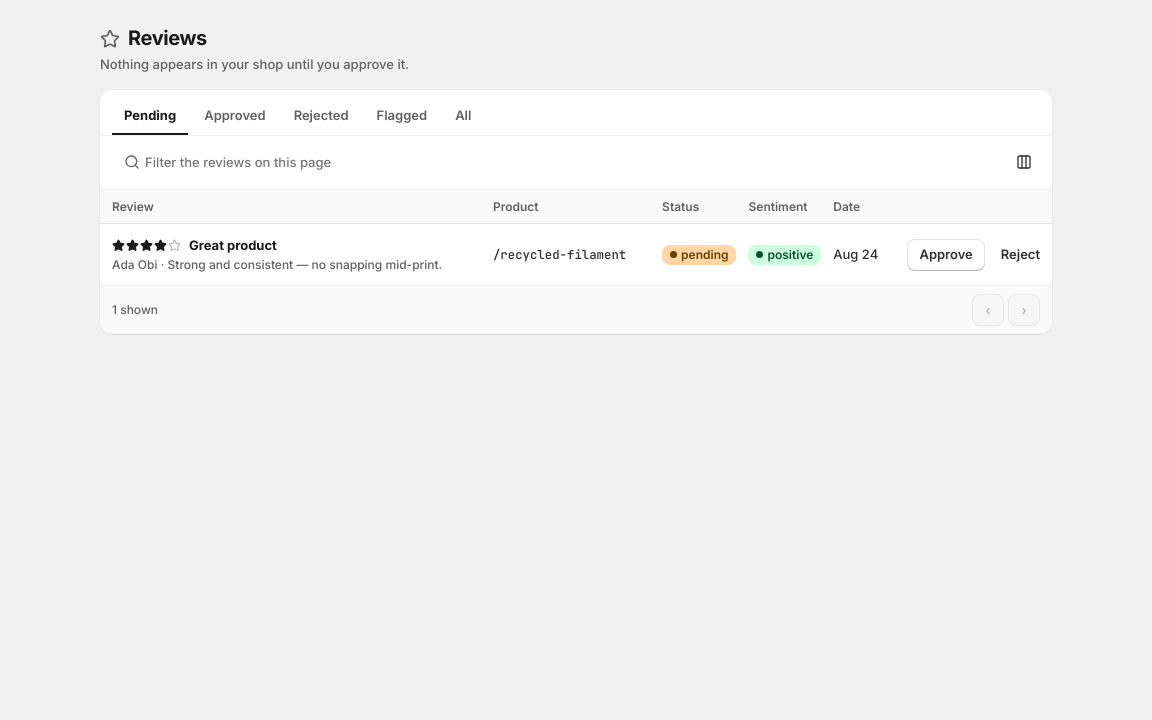
the reviews queue › moderates by moving status and touching nothing else
The image size is (1152, 720).
Note: Approve, from the row's quick action.
Click the button "Approve": click(946, 254) [907,238,985,270]
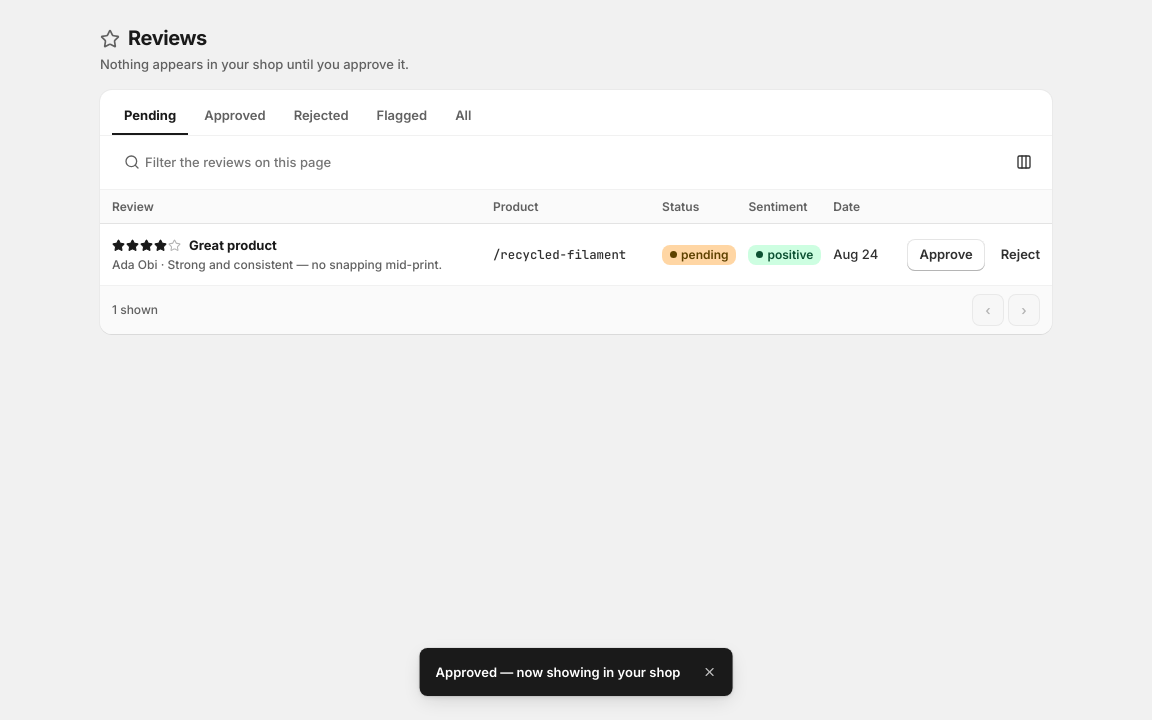
Now the text "Approved — now showing in your shop" is shown, box [436,663,680,681]
Note: Reject, from the modal — the other verb, the same wall.
Click the text "Great product": click(233, 245) [189,236,277,255]
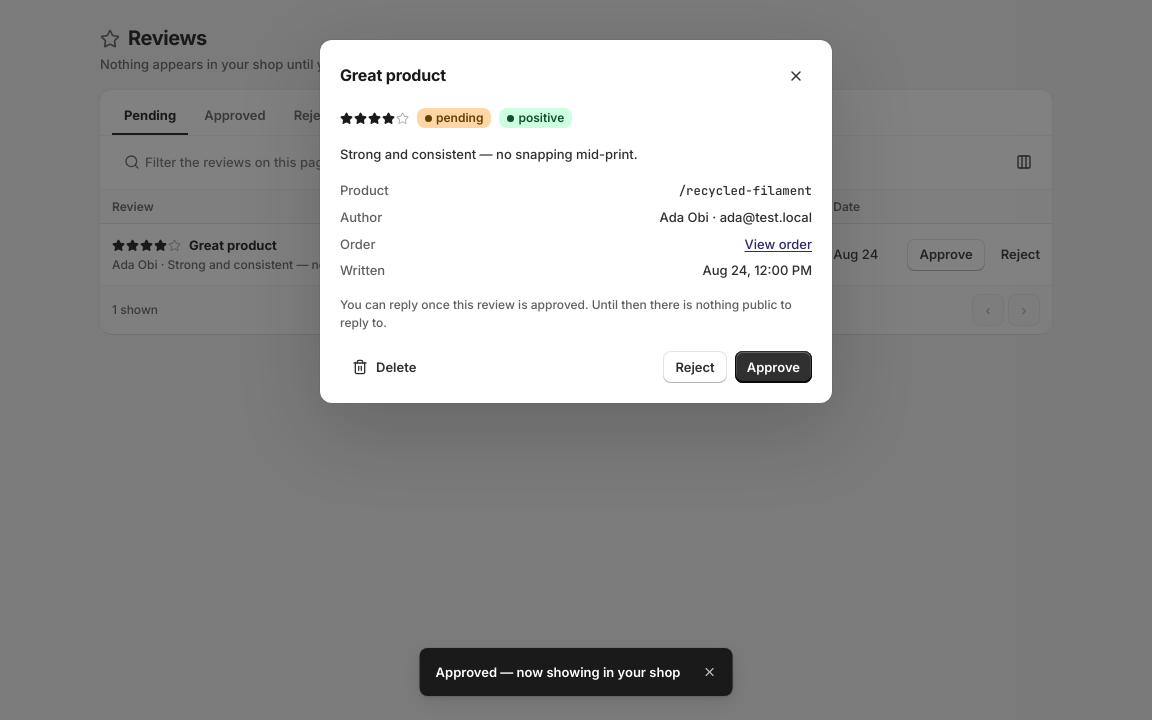
Click the button "Reject": click(695, 367) [663,351,727,383]
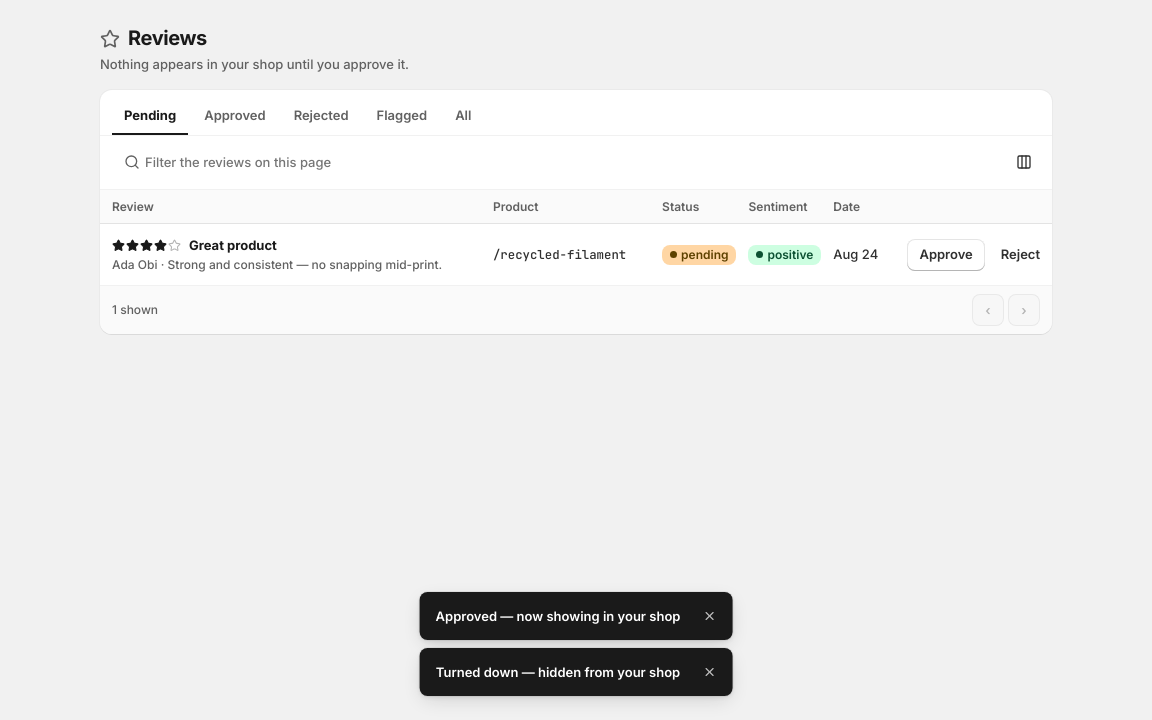
Now the text "Turned down — hidden from your shop" is shown, box [436,663,680,681]
